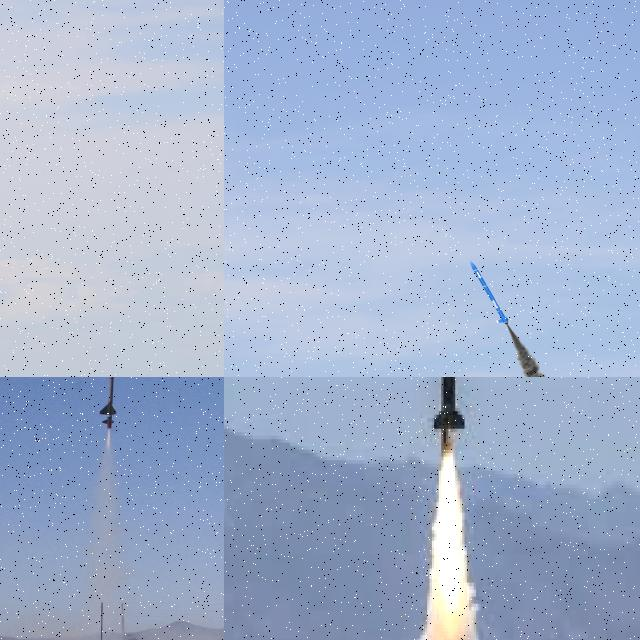Rocket: (470, 261, 510, 325), (430, 377, 466, 442), (99, 377, 117, 429)
